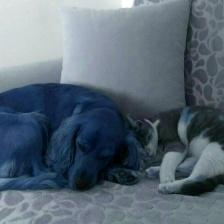kedo: (128, 104, 224, 194)
